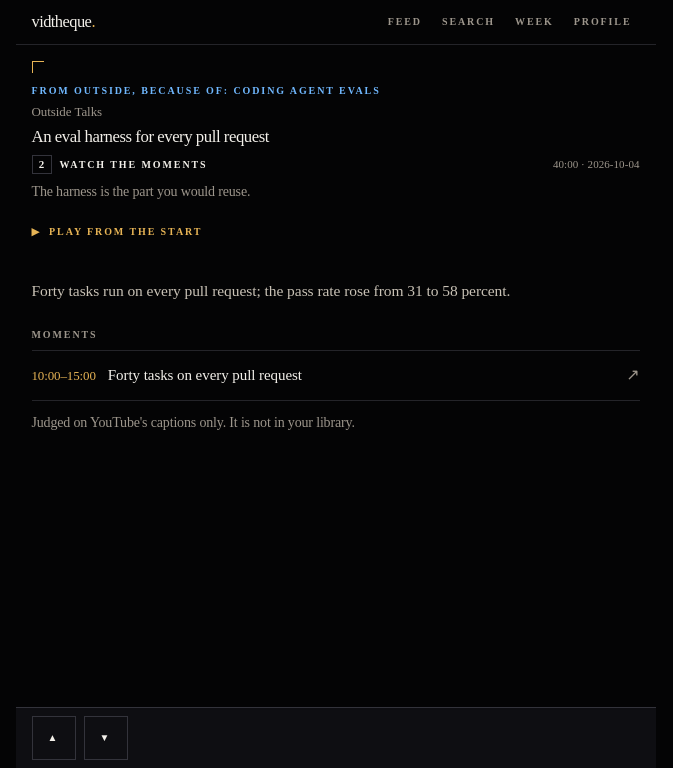
Test: OutsidePickView › offers a 14-day follow after a thumbs up, and says until when
The image size is (673, 768).
Check: the text "Judged on YouTube's captions only. It is not in your library." is shown, box [32,415,355,430]
Step 1. Click the button named "Thumbs up" → click(54, 738), box [32,716,76,760]
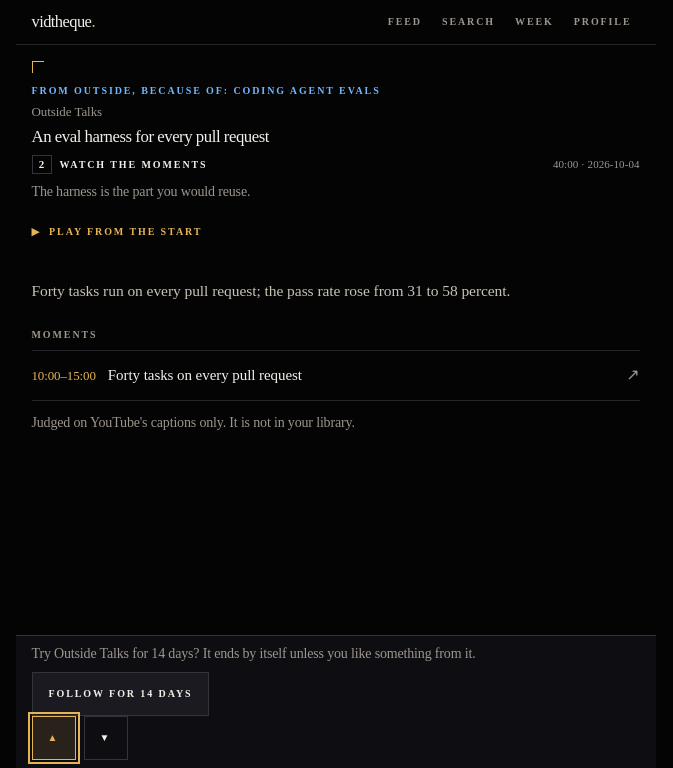
Step 2. Click the button "Follow for 14 days" → click(120, 694), box [32,672,210,716]
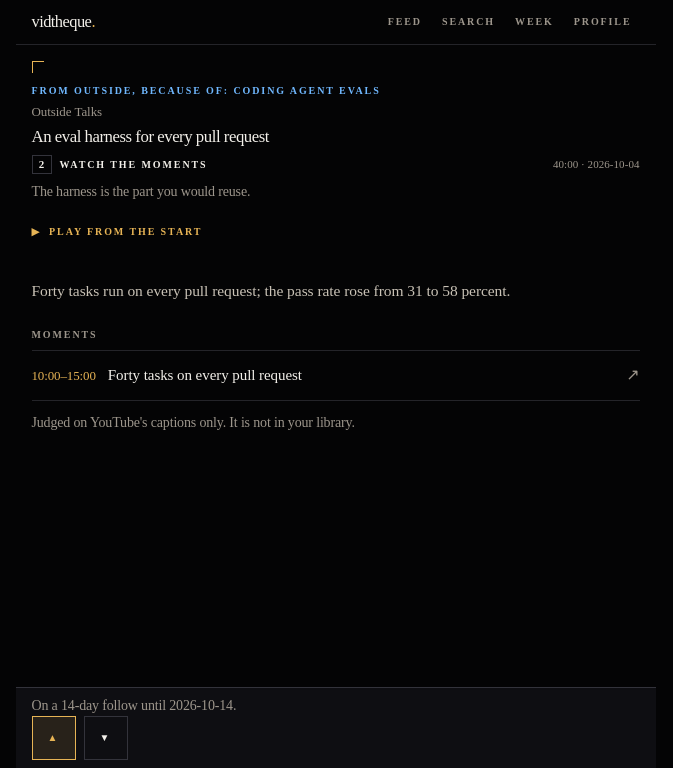
Check: the text "On a 14-day follow until 2026-10-14." is shown, box [32,698,236,713]
